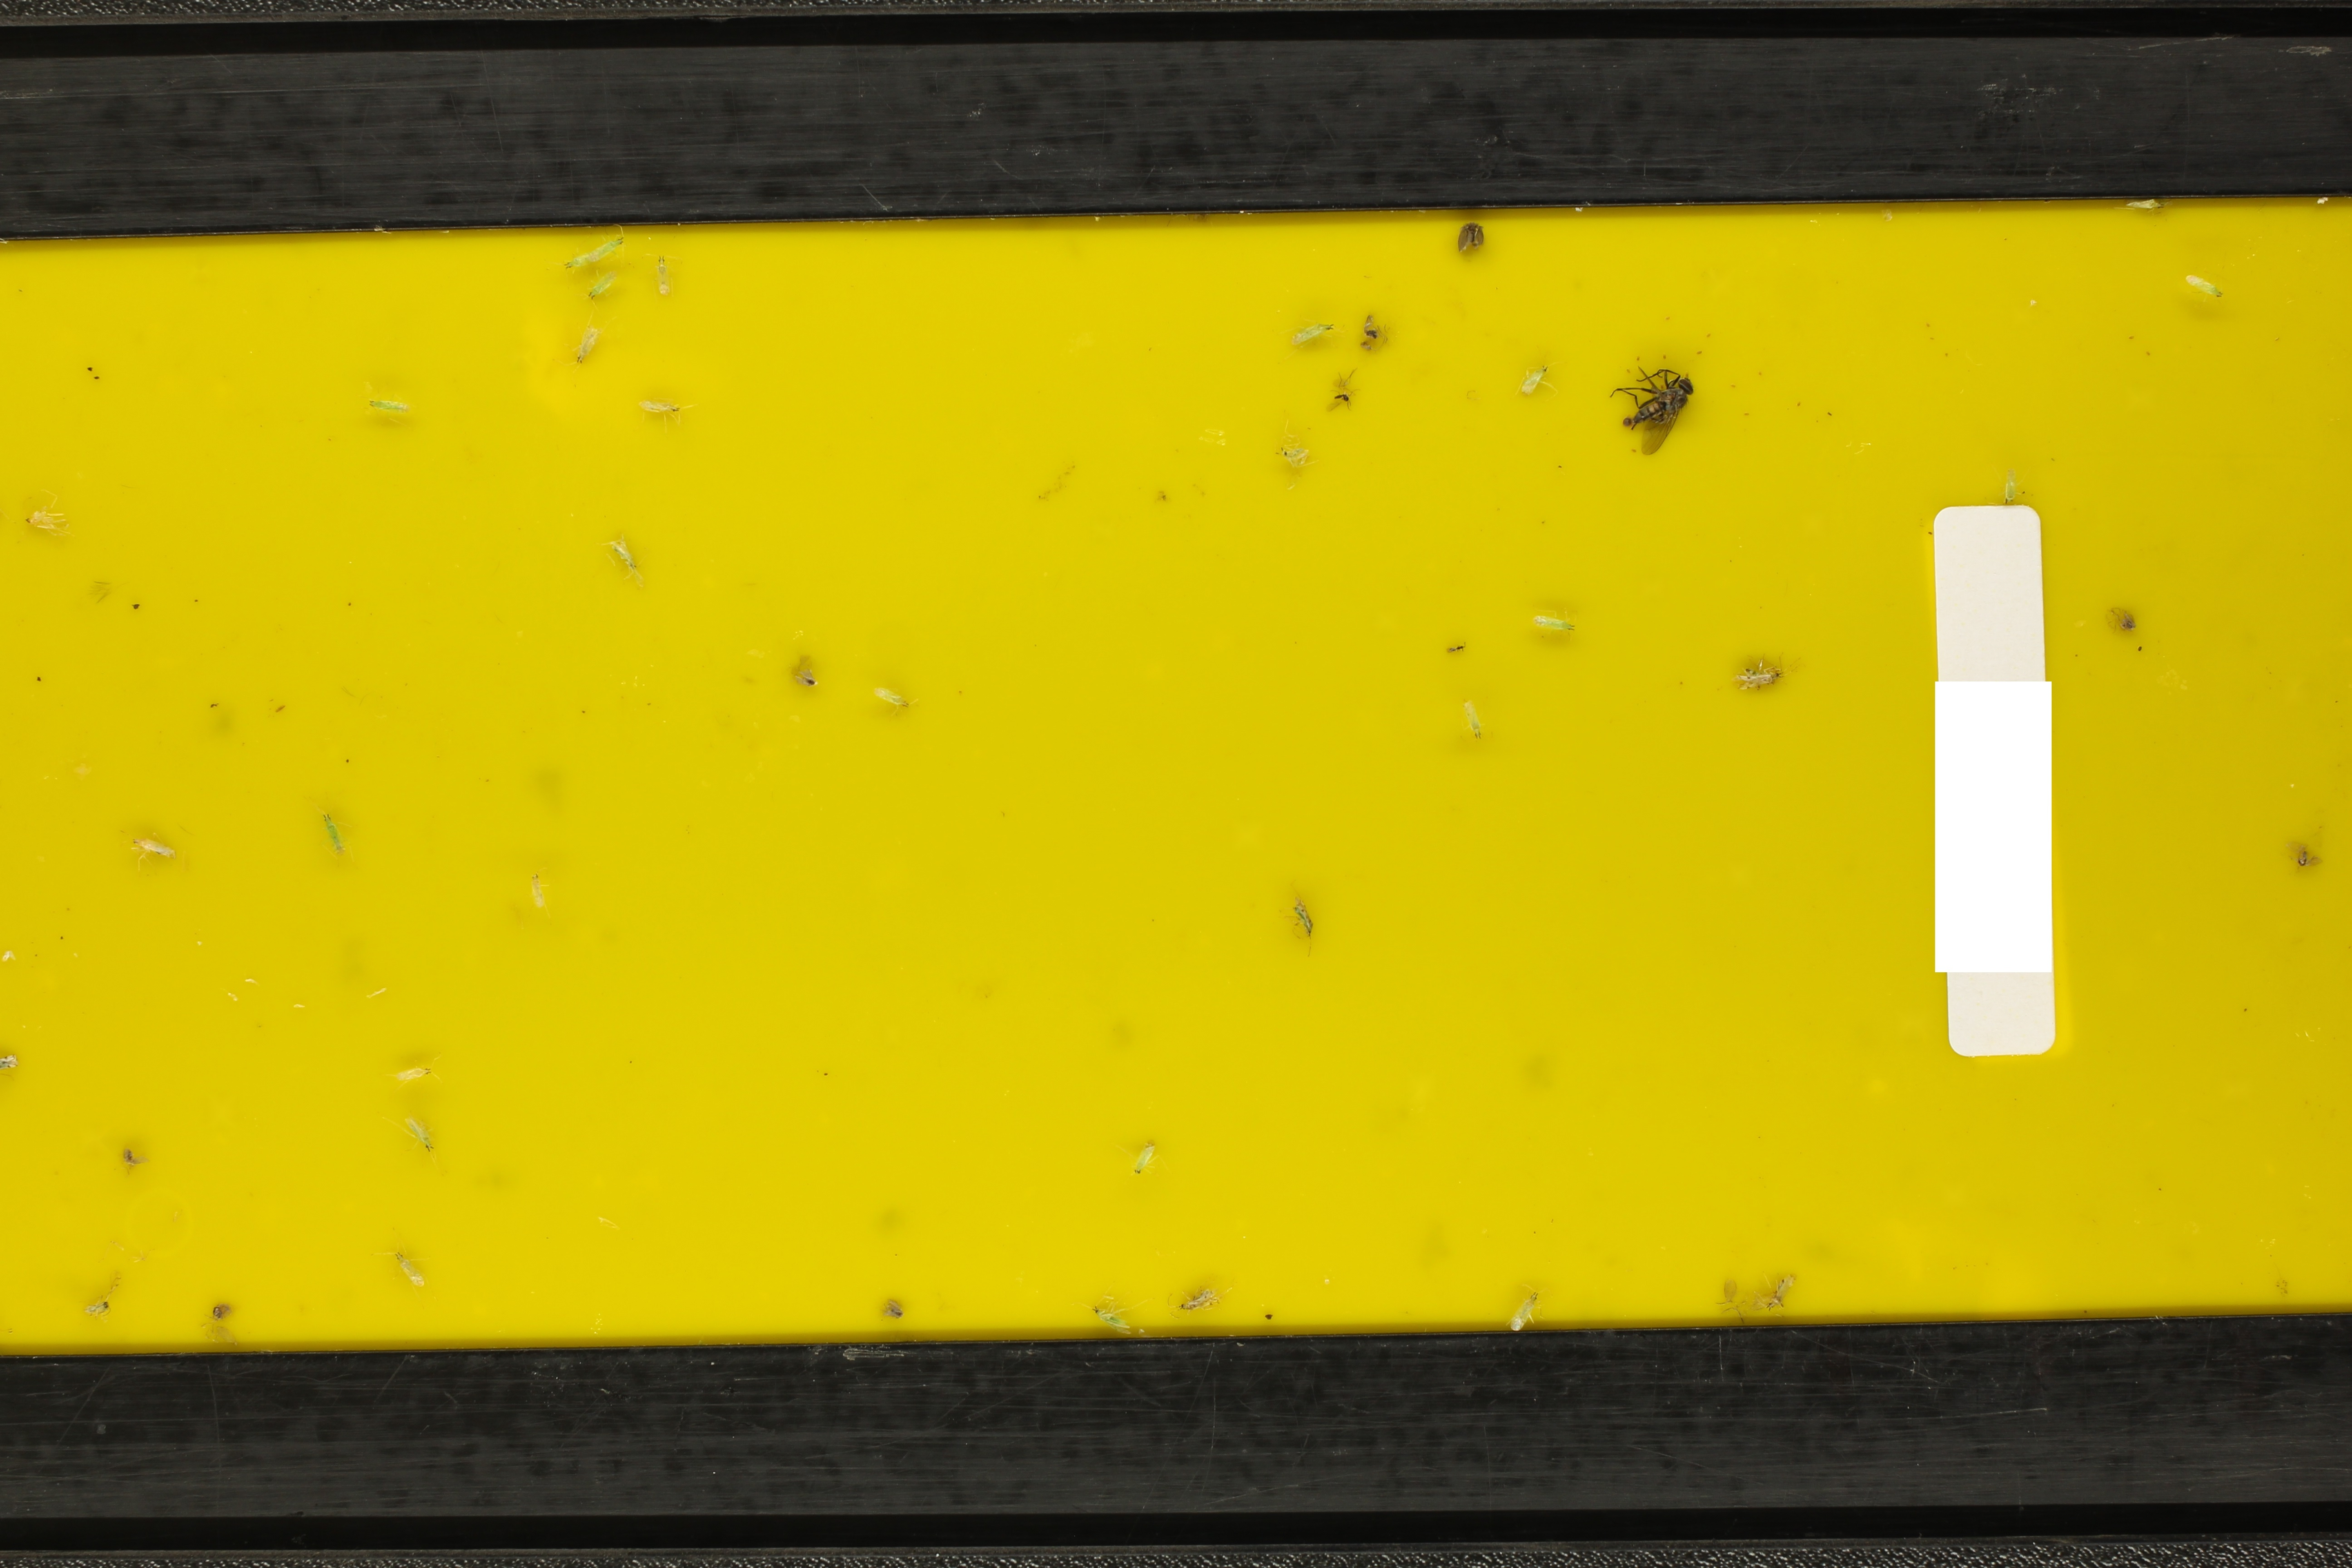WF: (1895, 1008, 1933, 1039), (1230, 819, 1265, 852), (206, 1094, 237, 1129), (78, 1126, 113, 1154), (1406, 1072, 1437, 1103), (2125, 385, 2157, 414), (2221, 1077, 2254, 1103), (2283, 676, 2309, 708), (1705, 271, 1735, 299), (1726, 861, 1754, 890), (1800, 511, 1828, 539), (1940, 1181, 1968, 1208), (1373, 609, 1401, 636), (1639, 576, 1666, 600), (509, 346, 534, 368), (2011, 304, 2033, 328), (188, 260, 212, 281), (1092, 519, 1116, 540), (883, 1024, 902, 1047)
